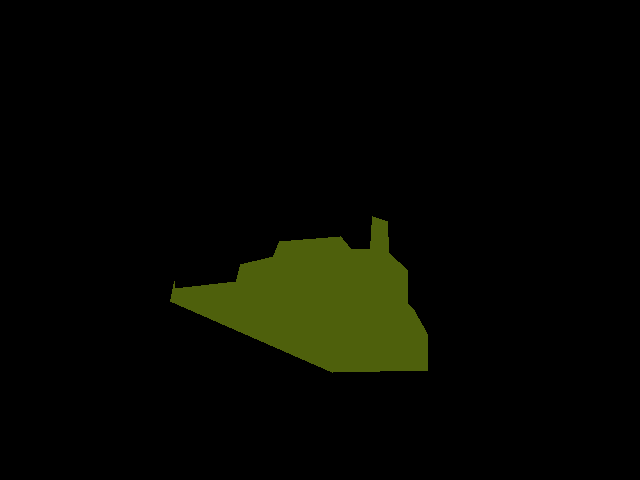Train: (170, 216, 427, 372)
